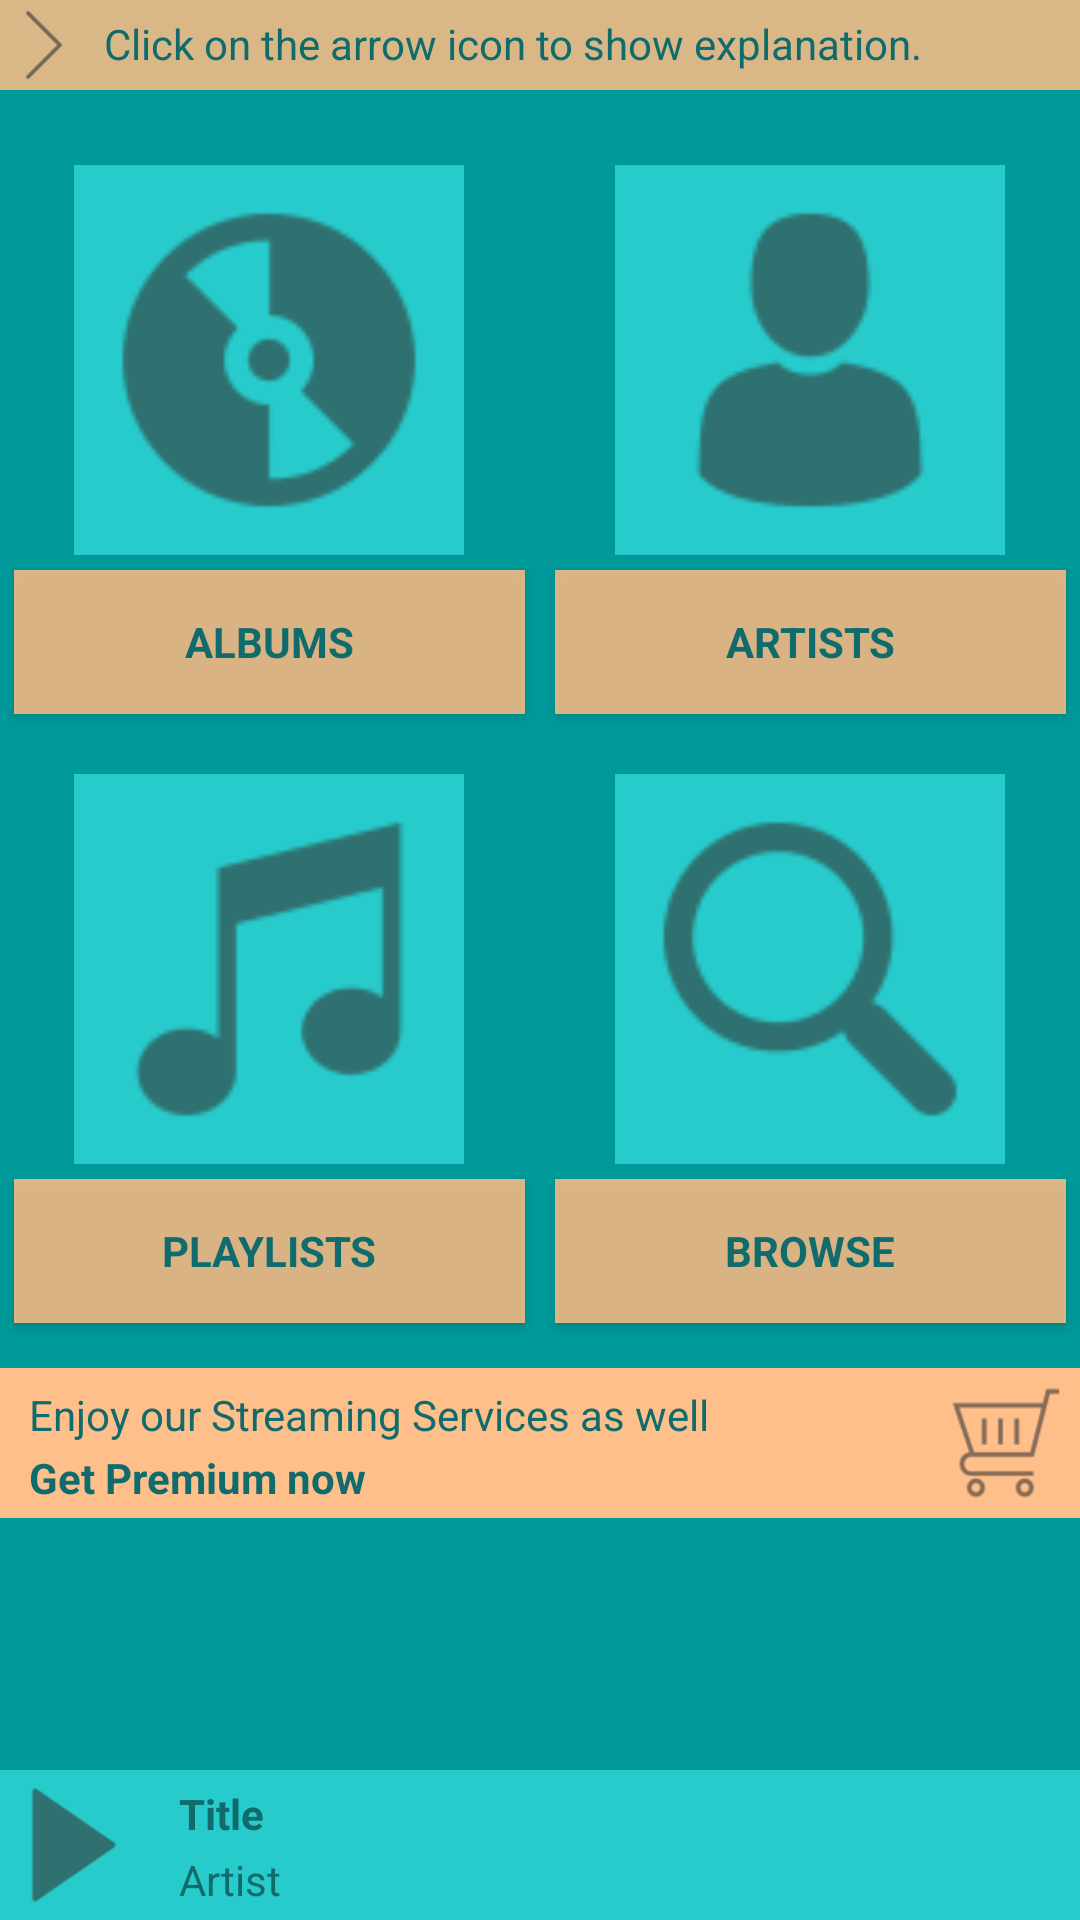

Icon click points for this 1080 × 1920 phone screenshot, format [x,y]:
arrow side: [44,45]
buy: [1006,1443]
play: [74,1845]
